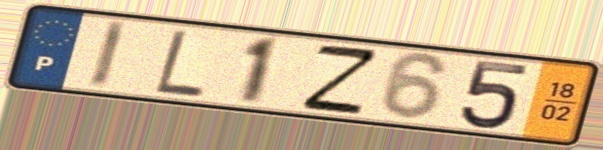1: (240, 33, 289, 109)
5: (454, 57, 534, 131)
6: (375, 50, 456, 125)
I: (84, 18, 132, 92)
L: (151, 26, 207, 100)
Z: (298, 42, 383, 116)
